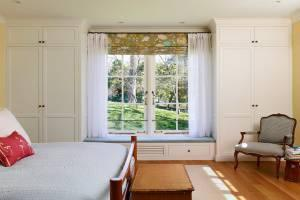window: (100, 48, 194, 137)
